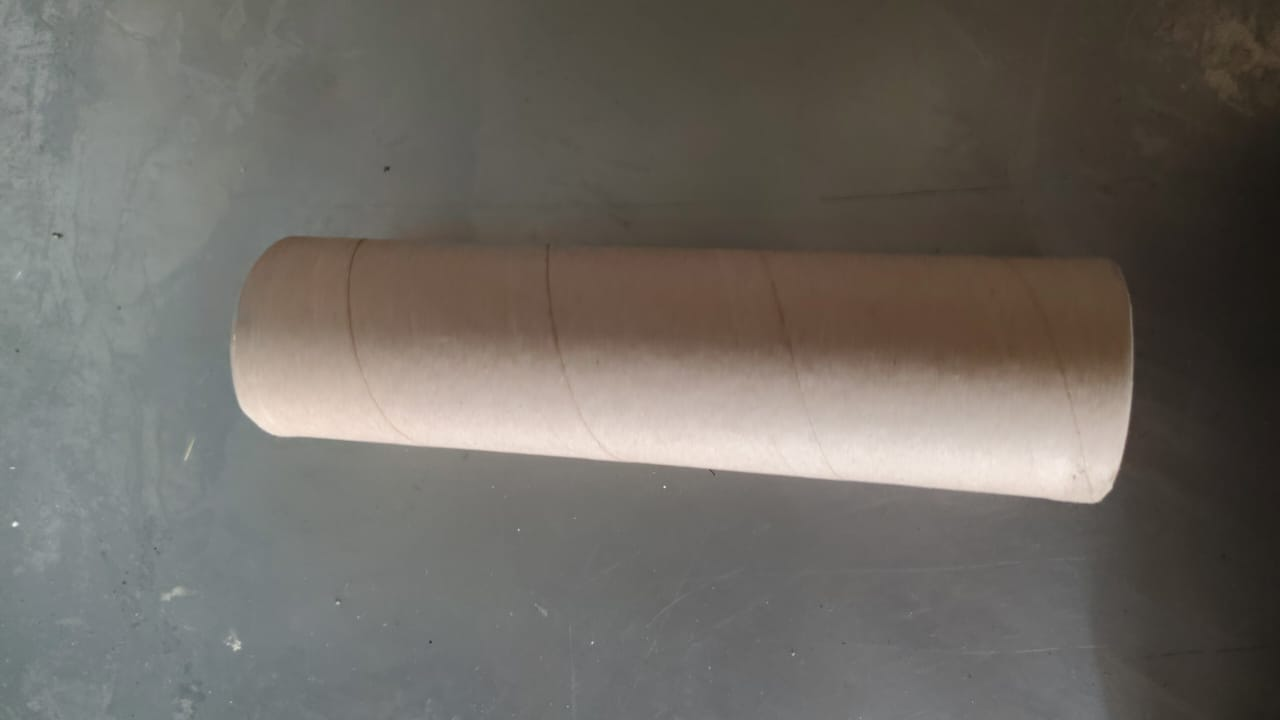Carton: (230, 236, 1135, 508)
